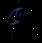Speed Limit -60-: (0, 1, 32, 32)
